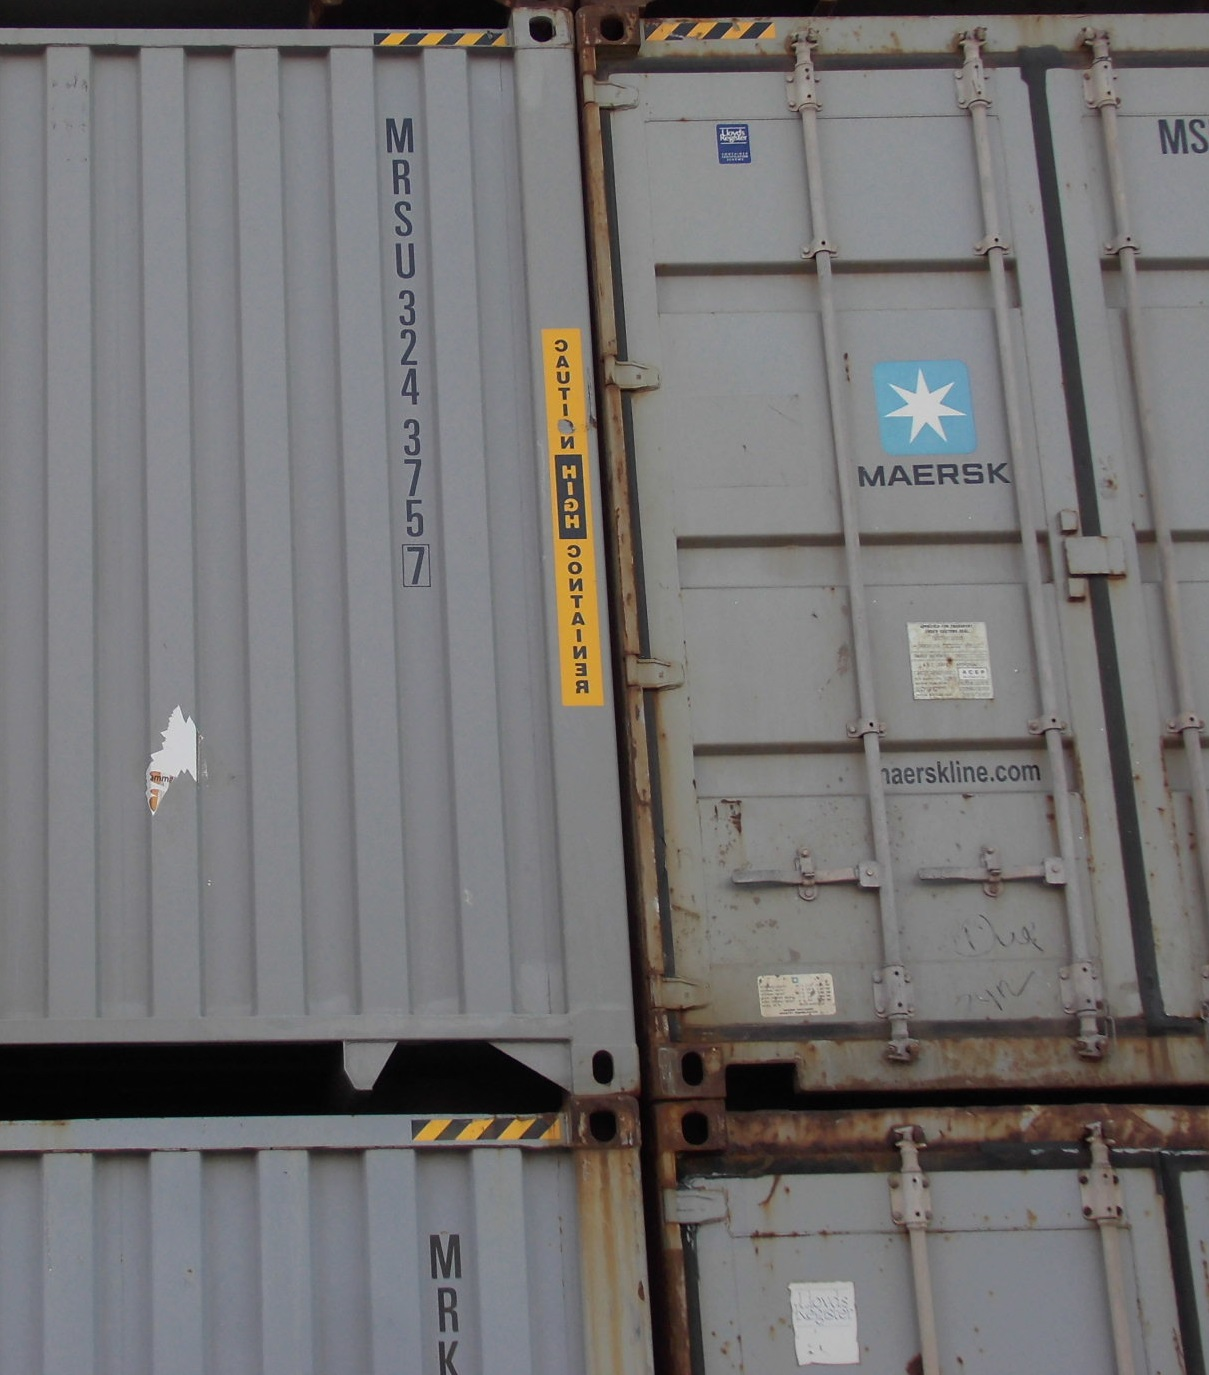container_door: (655, 7, 1208, 1101)
container_no_door: (7, 12, 637, 1110)
